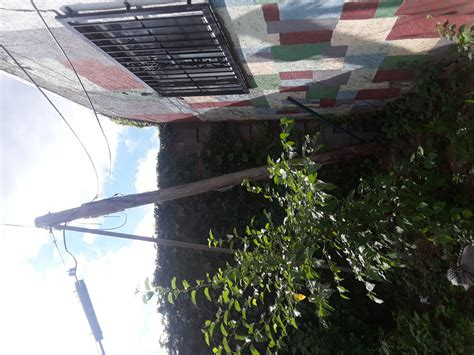pole: (26, 134, 392, 250)
